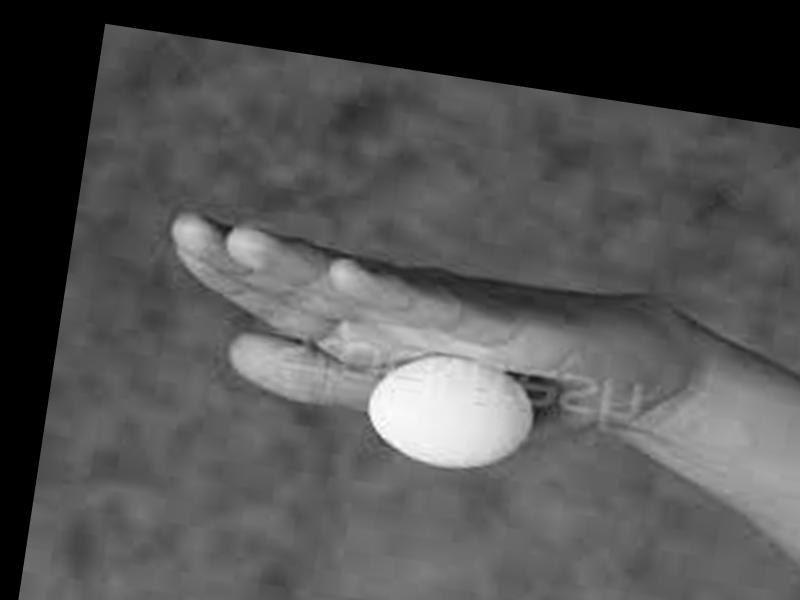Eggs: (361, 345, 540, 482)
